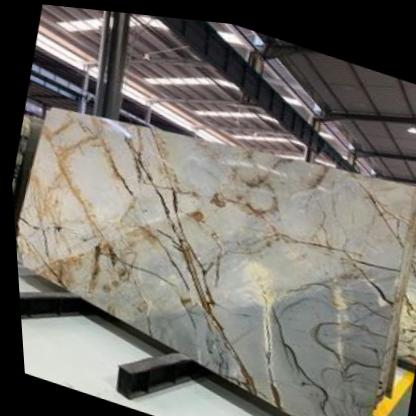Ceramic floor: (13, 106, 416, 416)
